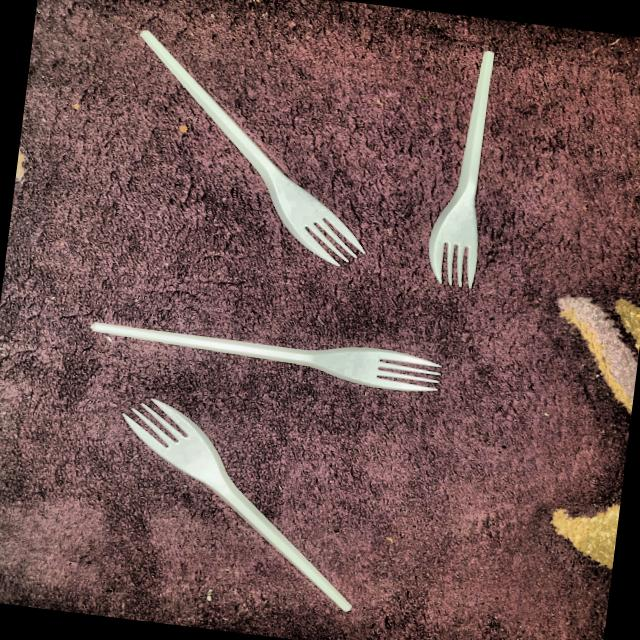plastic utensil: (108, 25, 393, 288), (101, 394, 380, 625), (72, 301, 456, 410), (421, 41, 514, 296)
